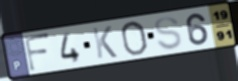4: (59, 31, 82, 64)
6: (184, 12, 211, 47)
F: (22, 32, 53, 73)
K: (90, 24, 119, 60)
O: (119, 19, 150, 57)
S: (153, 15, 185, 52)
